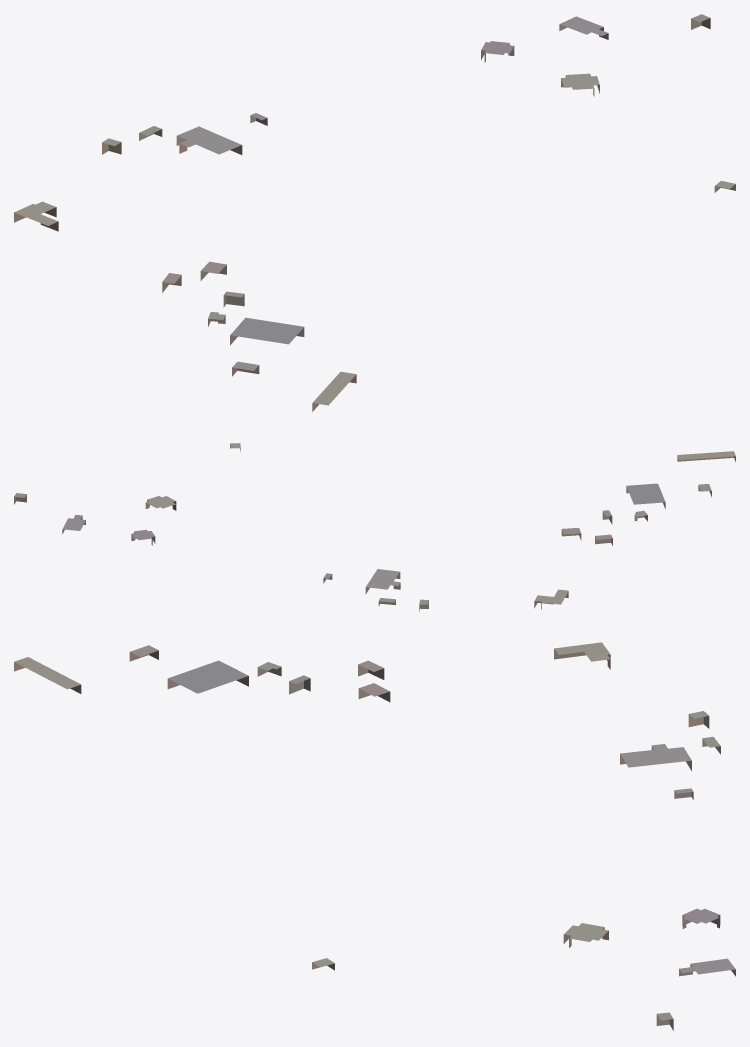
File: blocks_-2_1.glb
The picture shows the model from 3 angles, top to bottom: view 1: azimuth 30°, elevation 25°; view 2: azimuth 150°, elevation 25°; view 3: azimuth 270°, elevation 25°; orthographic projection. The views are drawn at different scales.
Parts seen in each view (by area): view 1: geometry_0; view 2: geometry_0; view 3: geometry_0.
Part boxes in pixels (<box>): geometry_0: <box>14,14,735,411</box>; geometry_0: <box>14,443,735,611</box>; geometry_0: <box>14,642,735,1030</box>.
Bounding box in the file's own units: 428 × 15.95 × 347.
